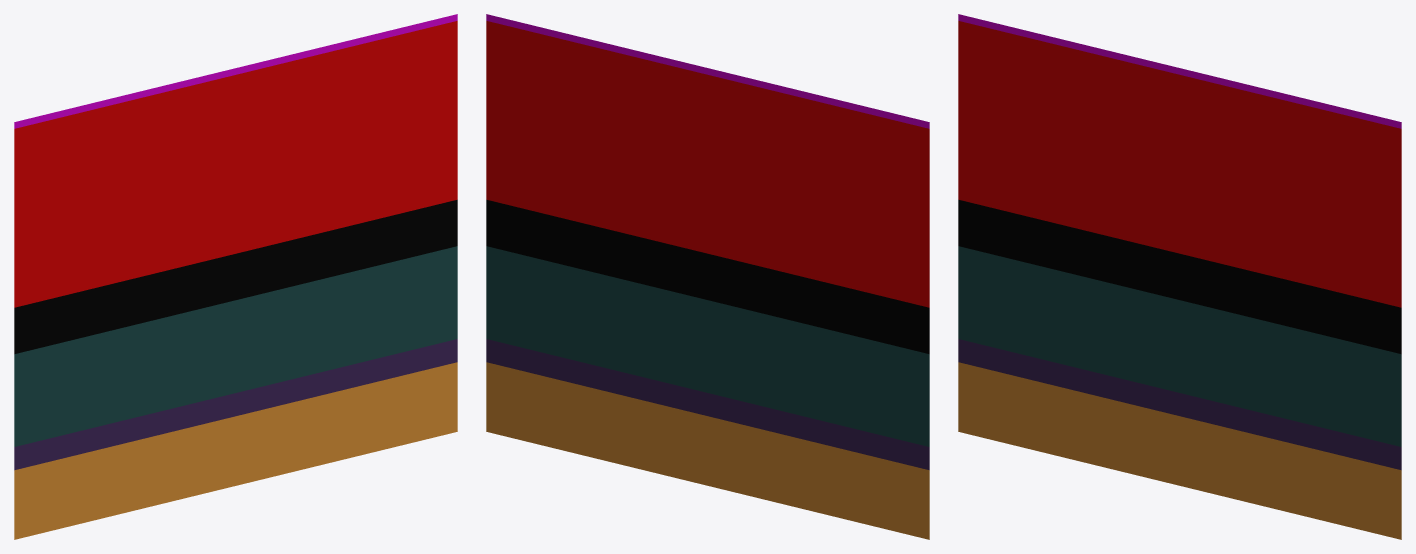
The model's file is Trim_2_Low.fbx.
3 views of the same model, side by side, from view 1: azimuth 30°, elevation 25°; view 2: azimuth 150°, elevation 25°; view 3: azimuth 330°, elevation 25° (orthographic).
Visible parts, largest first — view 1: Trim_2_Low; view 2: Trim_2_Low; view 3: Trim_2_Low.
Boxes of the visible parts, x1,y1,x2,y2 form: Trim_2_Low: [14, 14, 457, 539]; Trim_2_Low: [486, 14, 929, 539]; Trim_2_Low: [958, 14, 1401, 539].
Bounding box in the file's own units: 353 × 317 × 1.94e-14.
